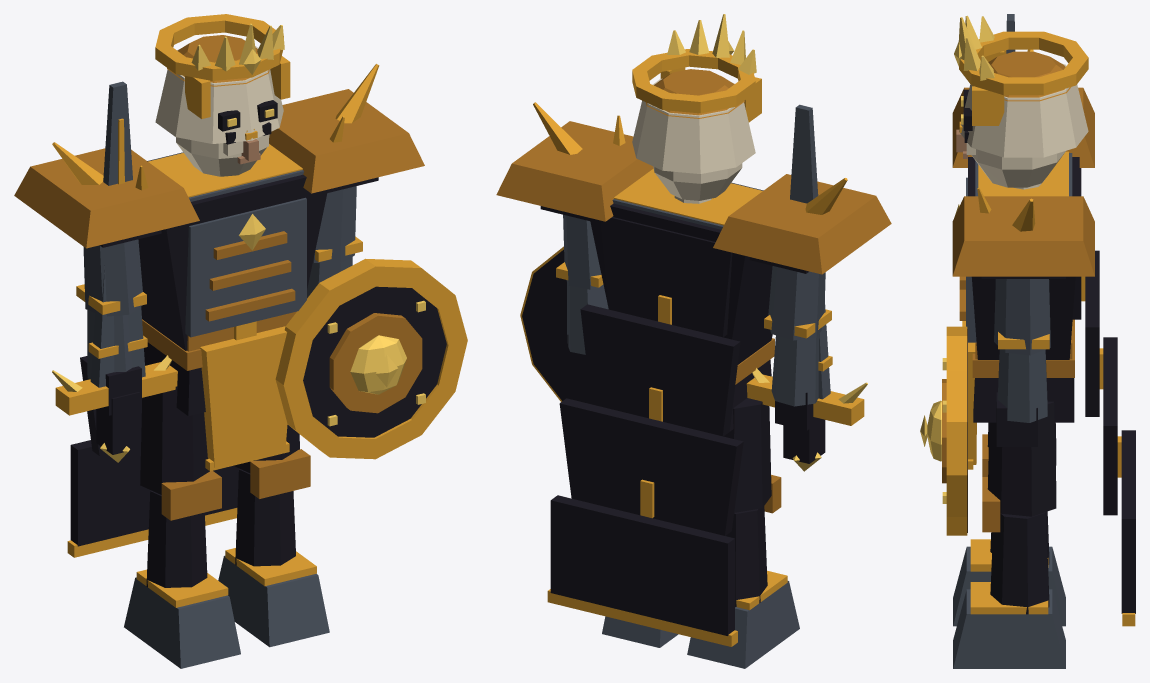
File: elite_skeleton.obj
3 renders of one model, left to right at view 1: azimuth 30°, elevation 25°; view 2: azimuth 150°, elevation 25°; view 3: azimuth 270°, elevation 25°, orthographic. The views are drawn at different scales.
Visible parts, largest first — view 1: torso, offhand, leg_r, arm_r, head, leg_l, arm_l, weapon, cape, hips; view 2: cape, arm_r, head, arm_l, leg_r, torso, weapon, offhand, hips, leg_l; view 3: arm_l, leg_l, head, cape, torso, offhand, hips, leg_r, arm_r.
Boxes of the visible parts, bbox=[...] form: torso: bbox=[138, 144, 327, 471]; offhand: bbox=[275, 258, 467, 459]; leg_r: bbox=[124, 386, 240, 668]; arm_r: bbox=[14, 142, 199, 415]; head: bbox=[155, 14, 290, 176]; leg_l: bbox=[218, 425, 329, 647]; arm_l: bbox=[269, 64, 424, 298]; weapon: bbox=[52, 81, 177, 462]; cape: bbox=[67, 356, 238, 557]; hips: bbox=[142, 319, 260, 416]; cape: bbox=[547, 217, 743, 646]; arm_r: bbox=[713, 174, 891, 430]; head: bbox=[632, 14, 761, 203]; arm_l: bbox=[496, 102, 653, 377]; leg_r: bbox=[687, 398, 799, 668]; torso: bbox=[589, 168, 772, 364]; weapon: bbox=[746, 104, 867, 471]; offhand: bbox=[520, 246, 591, 403]; hips: bbox=[727, 338, 774, 433]; leg_l: bbox=[602, 616, 678, 647]; arm_l: bbox=[952, 188, 1094, 446]; leg_l: bbox=[953, 401, 1065, 668]; head: bbox=[954, 15, 1088, 189]; cape: bbox=[1072, 168, 1135, 626]; torso: bbox=[954, 151, 1079, 469]; offhand: bbox=[920, 326, 967, 535]; hips: bbox=[972, 319, 1074, 422]; leg_r: bbox=[953, 422, 1065, 626]; arm_r: bbox=[952, 49, 1094, 167].
Size of the model in its own units: 0.6745 by 1.05 by 0.333.
